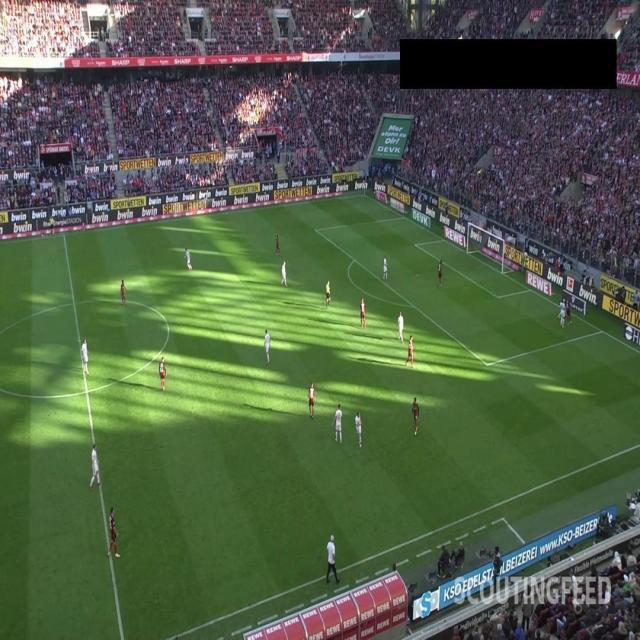player: (108, 506, 121, 558), (89, 443, 102, 491), (332, 403, 343, 444), (405, 335, 415, 368), (81, 338, 90, 374), (412, 396, 420, 435), (308, 381, 316, 419), (159, 356, 167, 391), (558, 299, 567, 328), (355, 411, 362, 448), (398, 311, 405, 344), (265, 329, 271, 363), (361, 297, 367, 329), (185, 247, 193, 271), (121, 279, 128, 305), (281, 261, 288, 287), (437, 259, 443, 287), (566, 299, 572, 325), (383, 255, 389, 280), (275, 234, 281, 256)
referee: (326, 280, 332, 309), (50, 215, 56, 238)
